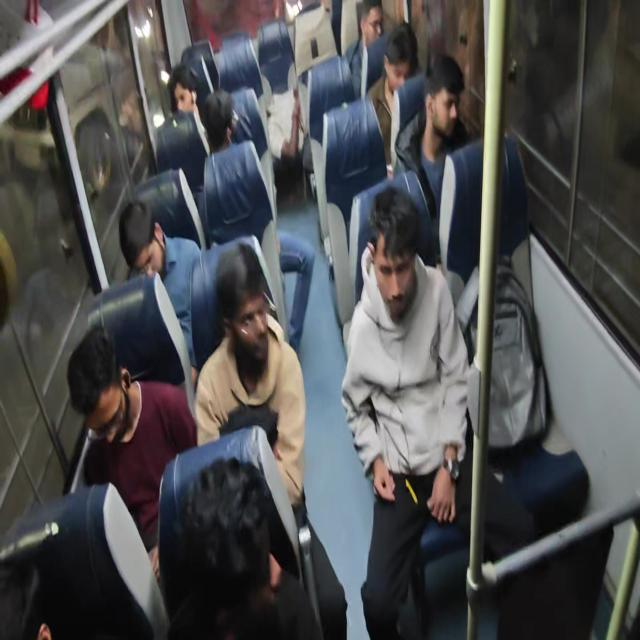person: (160, 458, 297, 616), (62, 324, 138, 446), (212, 236, 280, 368), (366, 176, 426, 324), (2, 556, 72, 640), (420, 48, 469, 148), (116, 198, 170, 282), (382, 21, 418, 93), (208, 86, 246, 147), (169, 65, 201, 128), (354, 0, 391, 42)
